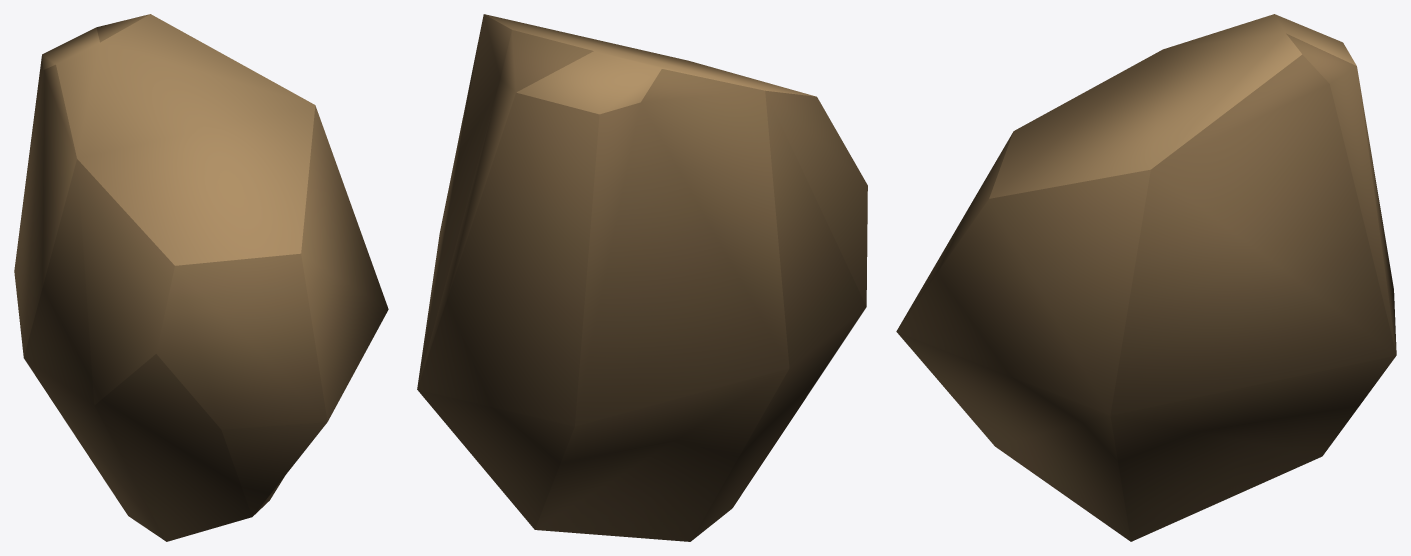
The model's file is Rock_Small_1C.fbx.
3 views of the same model, side by side, from view 1: azimuth 30°, elevation 25°; view 2: azimuth 150°, elevation 25°; view 3: azimuth 270°, elevation 25° (orthographic). The views are drawn at different scales.
Parts seen in each view (by area): view 1: Rock_Small_1C; view 2: Rock_Small_1C; view 3: Rock_Small_1C.
Part boxes in pixels (x1,y1,x2,y2): Rock_Small_1C: (14,14,388,541); Rock_Small_1C: (417,14,867,541); Rock_Small_1C: (896,14,1396,541).
Bounding box in the file's own units: 64.63 × 83.47 × 81.03.
